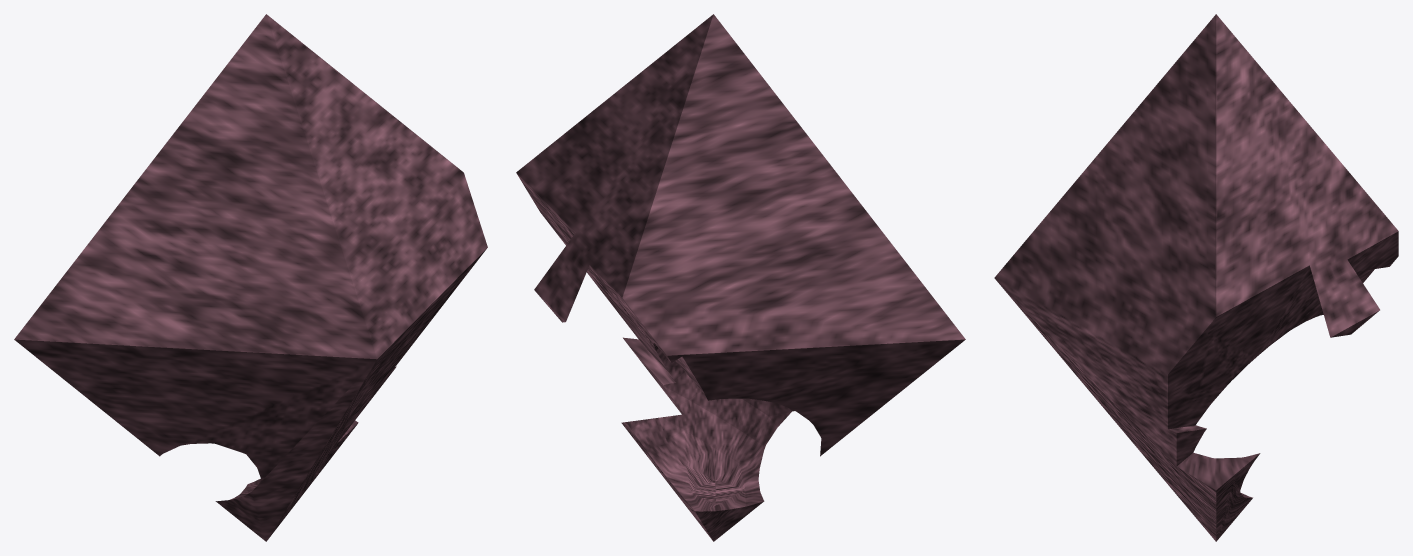
3 renders of one model, left to right at view 1: azimuth 30°, elevation 25°; view 2: azimuth 150°, elevation 25°; view 3: azimuth 270°, elevation 25°, orthographic.
Visible parts, largest first — view 1: geometry_0; view 2: geometry_0; view 3: geometry_0.
Boxes of the visible parts, x1,y1,x2,y2 form: geometry_0: (14,14,487,541); geometry_0: (516,14,965,541); geometry_0: (994,14,1398,541).
Size of the model in its own units: 0.6451 by 0.7235 by 0.5023.
1 material, 1 textured.
